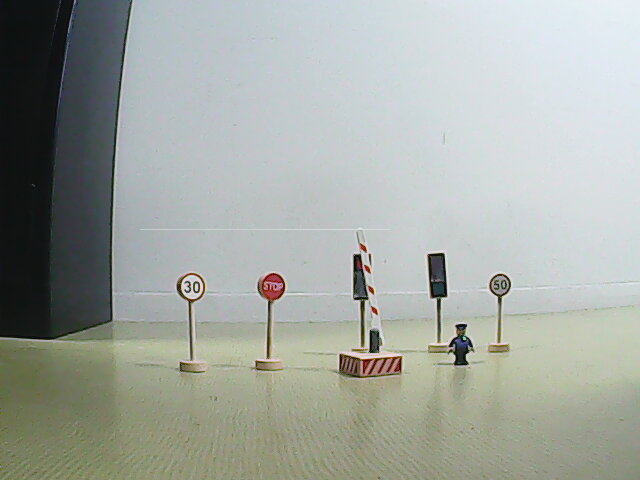barrier_up: (337, 227, 404, 381)
green_traffic_sign: (427, 252, 448, 299)
person: (446, 323, 478, 368)
sign_30: (175, 272, 206, 302)
sign_50: (489, 273, 512, 297)
stop_sign: (256, 271, 289, 302)
